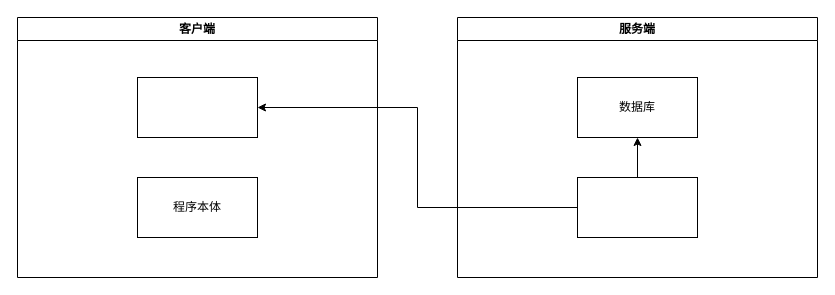
The diagram is 835 pixels wide and 295 high, and some of its shapes have lost their labels. The centre of each missing label's shape, as x and y in pixels:
工具更新模块: point 637,207
工具集合: point 197,107
